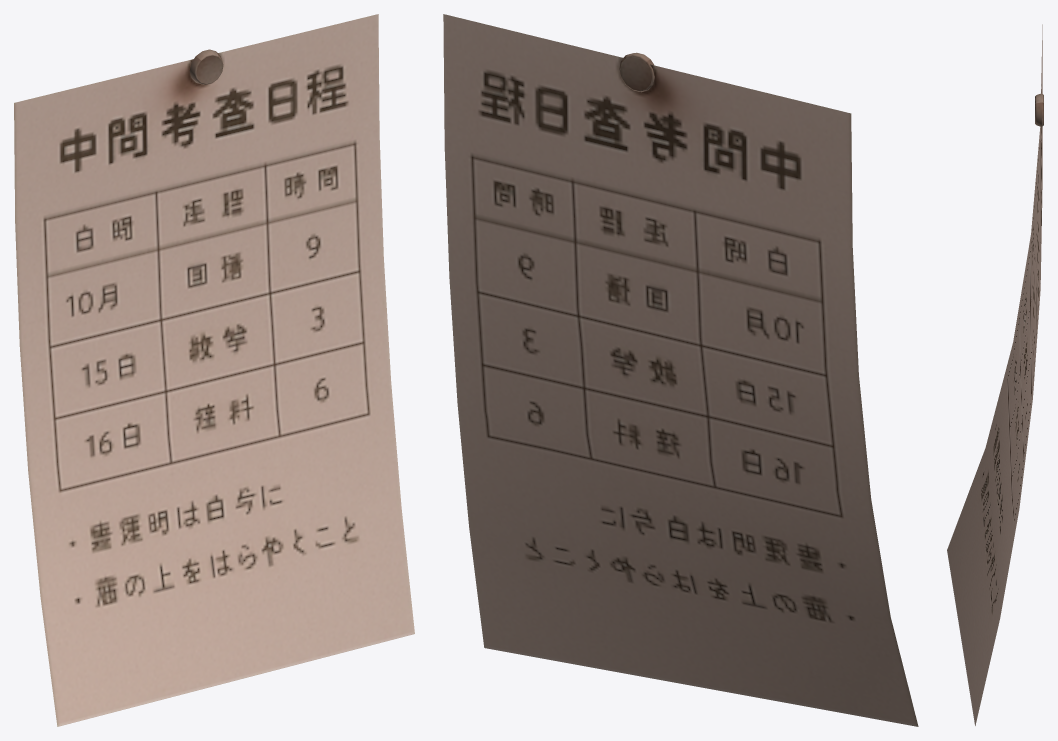
Rendered from SM_notice_002.fbx.
3 renders of one model, left to right at view 1: azimuth 30°, elevation 25°; view 2: azimuth 150°, elevation 25°; view 3: azimuth 270°, elevation 25°, orthographic. The views are drawn at different scales.
Parts seen in each view (by area): view 1: notices05; view 2: notices05; view 3: notices05.
Part boxes in pixels (<box>): notices05: <box>14,14,414,726</box>; notices05: <box>443,14,918,726</box>; notices05: <box>947,24,1043,725</box>.
Bounding box in the file's own units: 11.88 × 18.25 × 2.89.
Materials: 1 (1 with a texture image).
